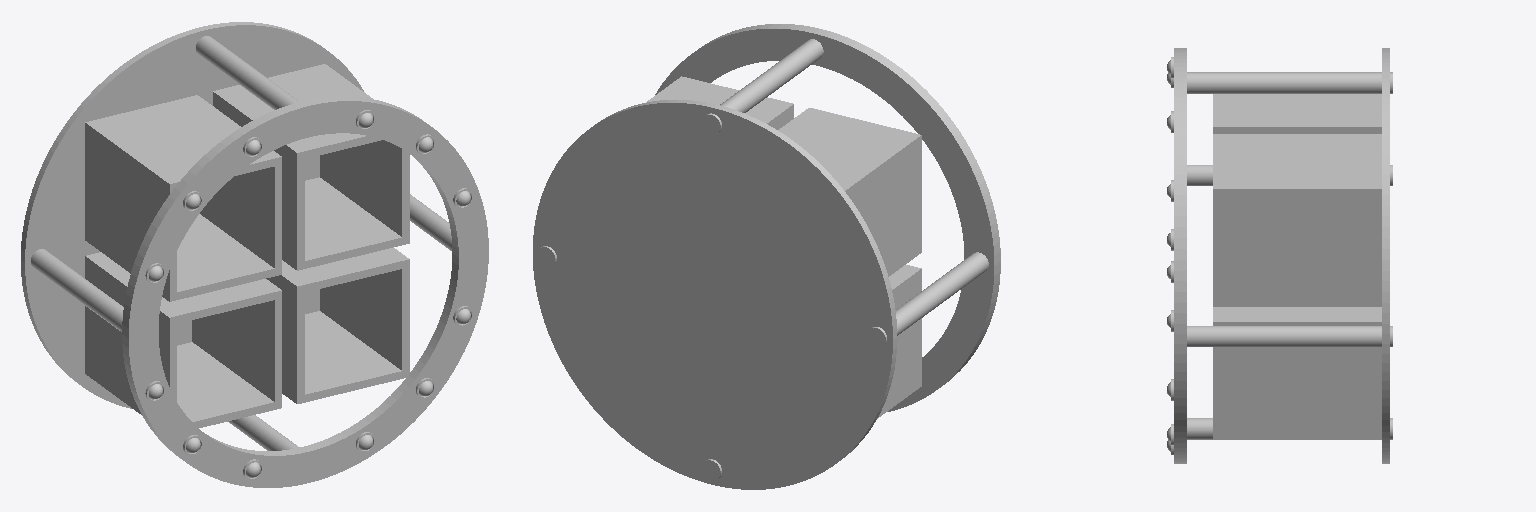
Rendered from struttura sotto definitiva.obj.
3 renders of one model, left to right at view 1: azimuth 30°, elevation 25°; view 2: azimuth 150°, elevation 25°; view 3: azimuth 270°, elevation 25°, orthographic.
Visible parts, largest first — view 1: Object.27, Object.33, Object.30, Object.34, Object.31, Object.32, Object.4, Object.2, Object.3, Object.1; view 2: Object.30, Object.27, Object.33, Object.34, Object.4, Object.2, Object.31; view 3: Object.31, Object.32, Object.33, Object.27, Object.2, Object.1, Object.30, Object.3, Object.4.
Boxes of the visible parts, x1,y1,x2,y2 form: Object.27: [122, 96, 488, 487]; Object.33: [85, 95, 281, 301]; Object.30: [21, 22, 363, 408]; Object.34: [85, 252, 281, 427]; Object.31: [213, 64, 409, 270]; Object.32: [266, 247, 409, 403]; Object.4: [31, 249, 123, 331]; Object.2: [196, 36, 298, 109]; Object.3: [228, 415, 299, 450]; Object.1: [410, 194, 451, 250]; Object.30: [533, 100, 896, 489]; Object.27: [655, 24, 1000, 411]; Object.33: [778, 108, 921, 276]; Object.34: [877, 265, 921, 418]; Object.4: [867, 252, 988, 347]; Object.2: [702, 39, 823, 134]; Object.31: [646, 76, 793, 129]; Object.31: [1213, 134, 1381, 306]; Object.32: [1213, 307, 1381, 439]; Object.33: [1213, 94, 1381, 133]; Object.27: [1174, 48, 1186, 463]; Object.2: [1187, 72, 1392, 93]; Object.1: [1187, 326, 1392, 346]; Object.30: [1382, 48, 1389, 463]; Object.3: [1187, 418, 1392, 439]; Object.4: [1187, 165, 1392, 185].
Bounding box in the file's own units: 480 × 480 × 262.